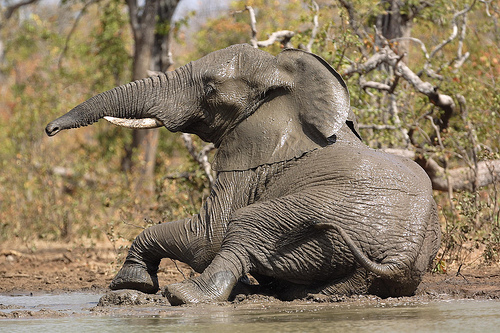elephant: (24, 32, 466, 311)
